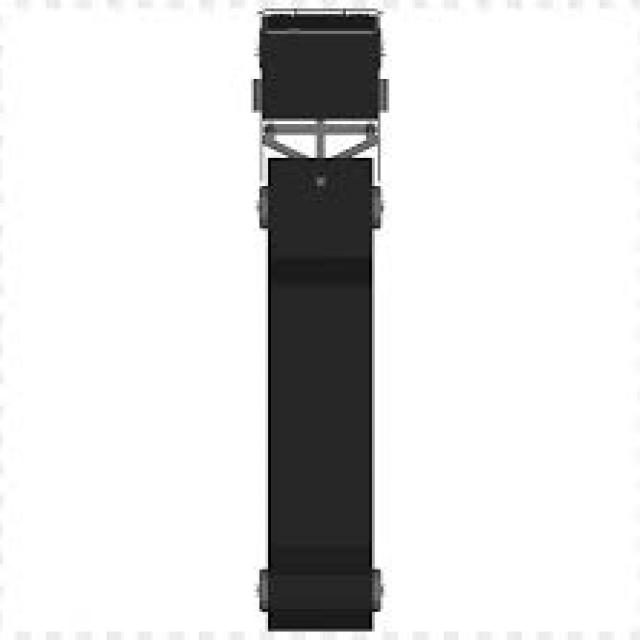truck: (255, 6, 387, 632)
